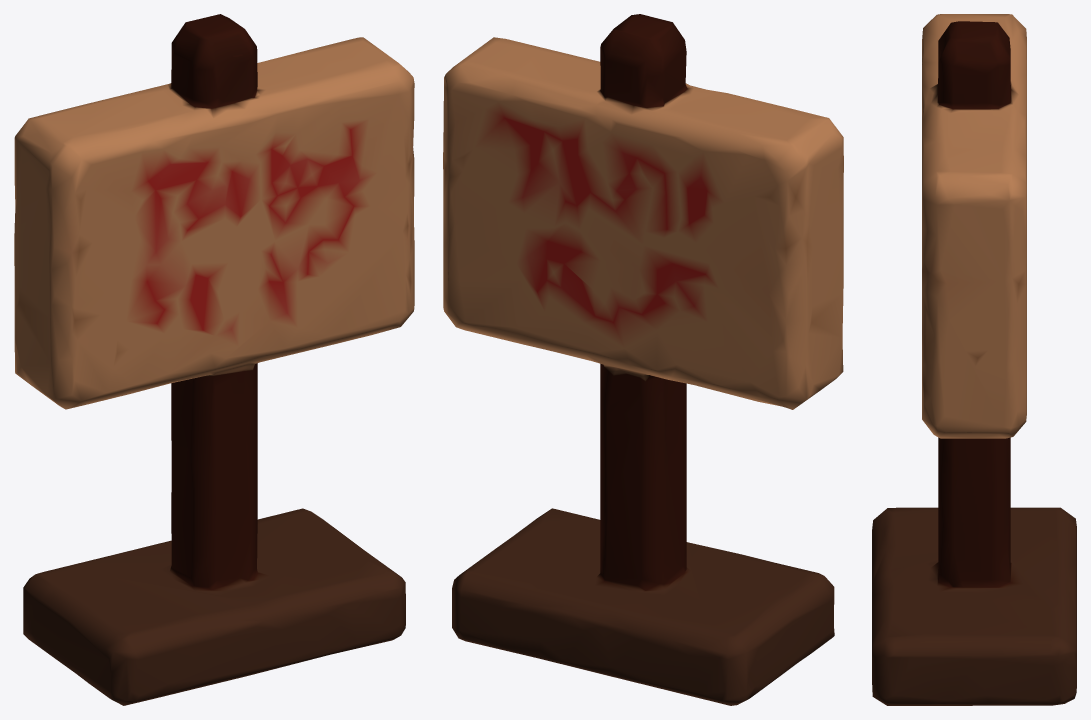
Rendered from gen3d-thin-ice-sign-lod0.glb.
3 views of the same model, side by side, from view 1: azimuth 30°, elevation 25°; view 2: azimuth 150°, elevation 25°; view 3: azimuth 270°, elevation 25° (orthographic).
Parts seen in each view (by area): view 1: part_0; view 2: part_0; view 3: part_0.
Part boxes in pixels (left/top/right/bottom): part_0: left=14, top=14, right=414, bottom=705; part_0: left=443, top=14, right=843, bottom=705; part_0: left=872, top=14, right=1076, bottom=705.
Bounding box in the file's own units: 0.6192 × 1 × 0.3044.
